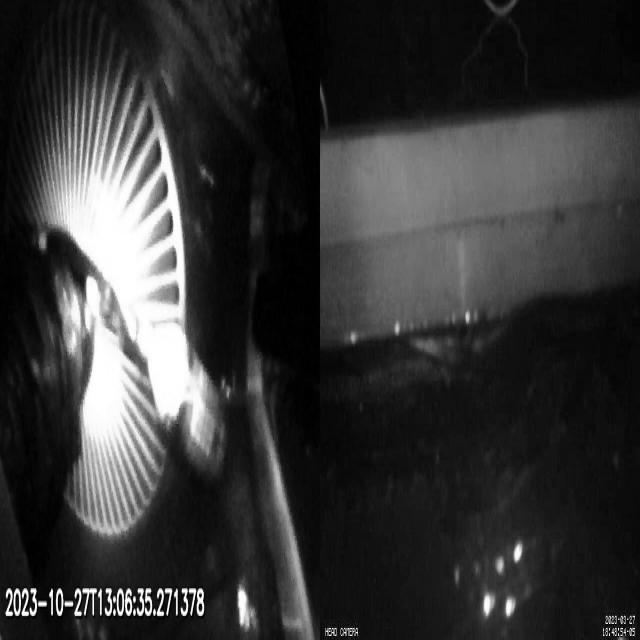head: (147, 322, 228, 482)
